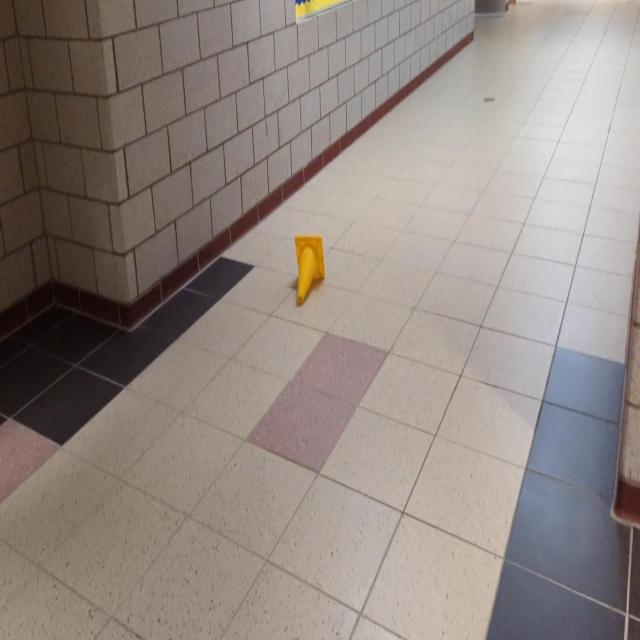frc_cone: (295, 236, 324, 308)
